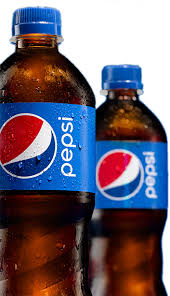bottle: (1, 8, 170, 294)
pepsi: (1, 113, 77, 182)
plastic: (1, 8, 170, 293)
